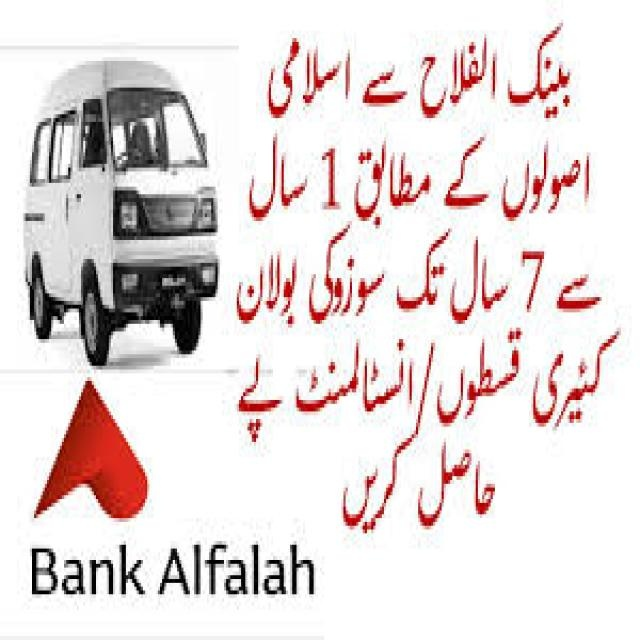Van: (23, 61, 220, 369)
